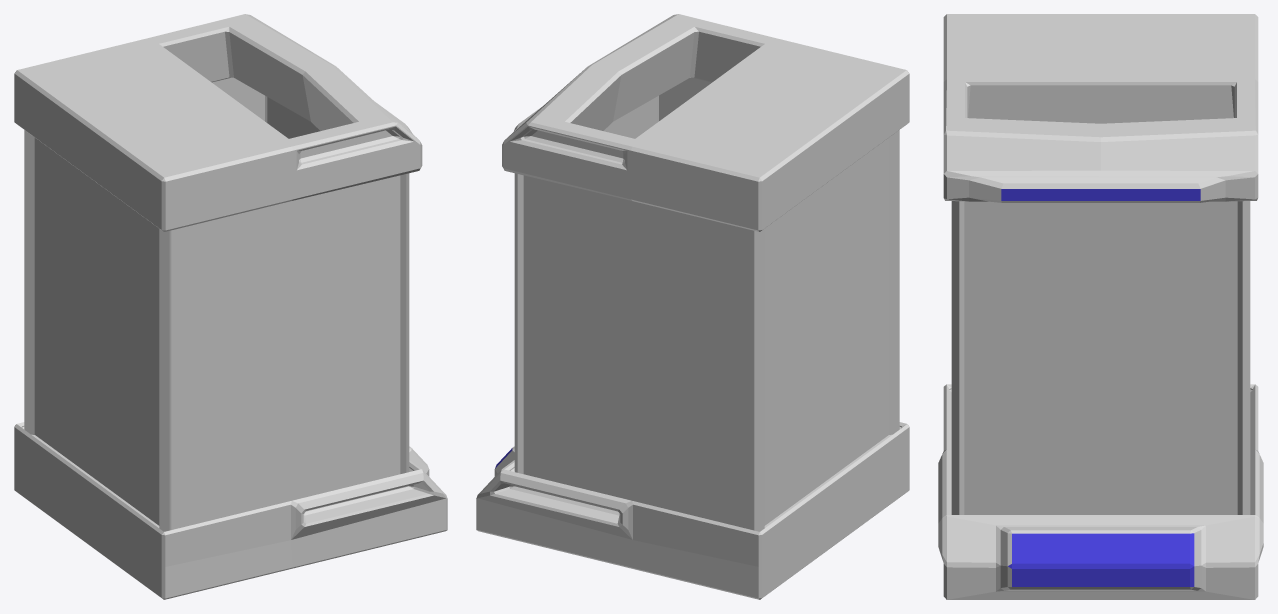
Rendered from CaissonPlante.fbx.
3 renders of one model, left to right at view 1: azimuth 30°, elevation 25°; view 2: azimuth 150°, elevation 25°; view 3: azimuth 270°, elevation 25°, orthographic. The views are drawn at different scales.
Visible parts, largest first — view 1: Verre, CaissonTop, Verre.002, CaissonBottom, Poteau.001, Poteau.003, Poteau, Verre.003, Verre.001; view 2: Verre.001, CaissonTop, Verre.002, CaissonBottom, Poteau.003, Poteau.001, Poteau.002, Verre.003, Verre; view 3: Verre.003, CaissonTop, CaissonBottom, Poteau, Poteau.002.
Boxes of the visible parts, x1,y1,x2,y2 form: Verre: (171, 175, 400, 529); CaissonTop: (14, 14, 422, 231); Verre.002: (34, 137, 159, 525); CaissonBottom: (14, 422, 447, 599); Poteau.001: (159, 229, 171, 531); Poteau.003: (24, 130, 34, 434); Poteau: (400, 173, 409, 473); Verre.003: (267, 97, 320, 138); Verre.001: (212, 77, 264, 120); Verre.001: (523, 175, 752, 529); CaissonTop: (502, 14, 909, 231); Verre.002: (764, 137, 889, 525); CaissonBottom: (476, 422, 909, 599); Poteau.003: (752, 229, 764, 531); Poteau.001: (889, 130, 899, 434); Poteau.002: (514, 173, 523, 473); Verre.003: (603, 97, 656, 138); Verre: (659, 77, 711, 120); Verre.003: (964, 201, 1237, 514); CaissonTop: (943, 14, 1258, 202); CaissonBottom: (938, 384, 1263, 599); Poteau: (951, 201, 964, 514); Poteau.002: (1237, 201, 1250, 514).
Size of the model in its own units: 229 by 310 by 207.
